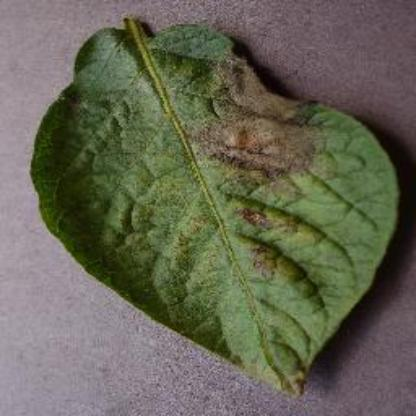Late-Blight: (15, 9, 409, 407)
